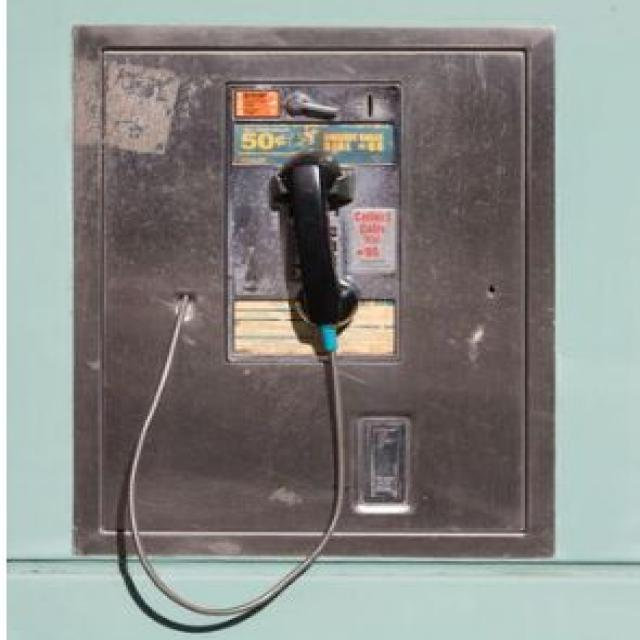electronic: (70, 22, 558, 559)
